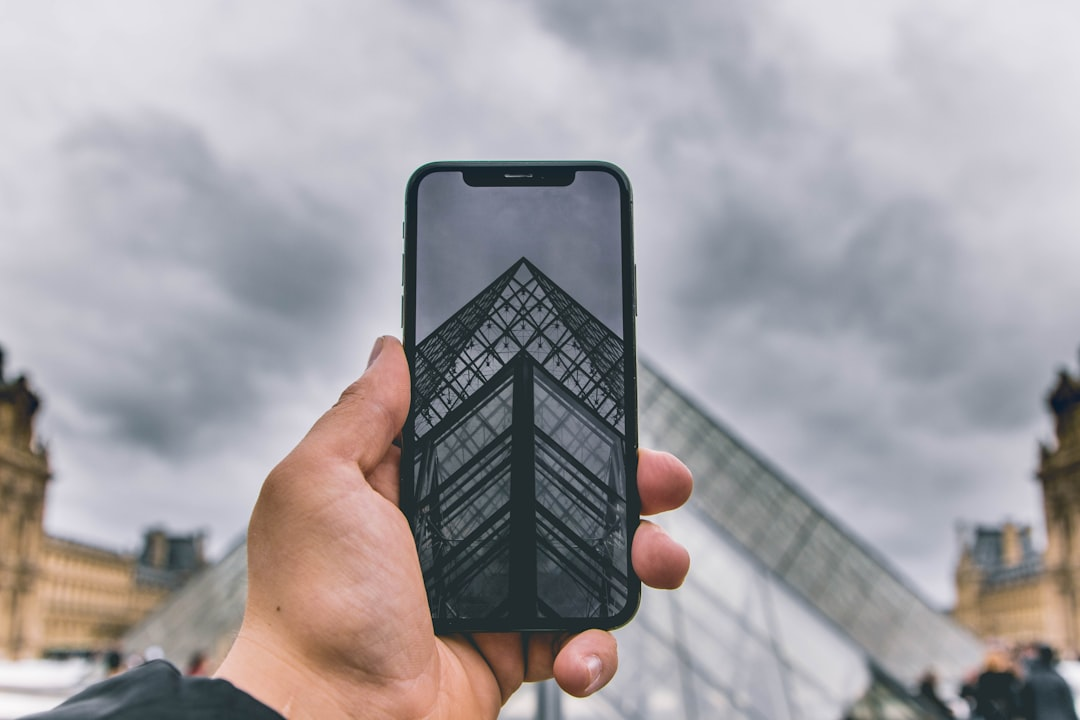phone: (402, 159, 641, 634)
